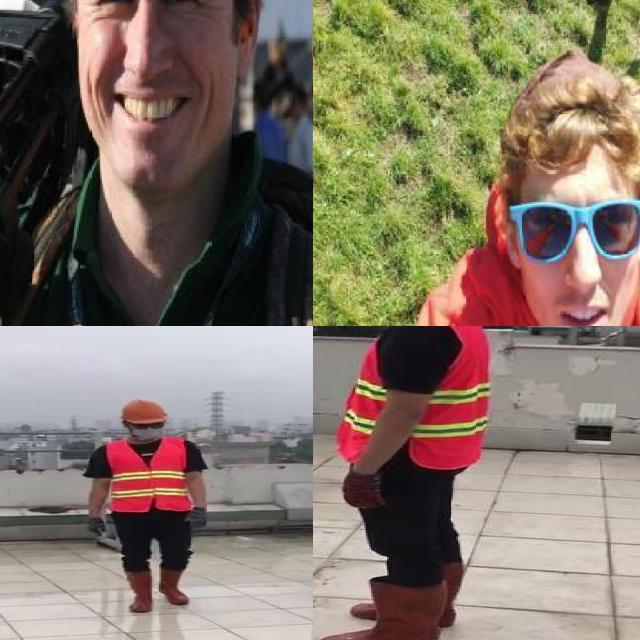No_Ear-Protection: (225, 0, 265, 86)
No_Glasses: (60, 0, 231, 27)
boots: (322, 580, 447, 640), (121, 566, 158, 613), (438, 561, 462, 627), (155, 566, 193, 606)
face_nomask: (81, 0, 224, 136), (522, 192, 639, 326)
glasses: (471, 190, 640, 283)
hand_glove: (343, 472, 385, 509)
head_helmet: (114, 398, 173, 427)
head_nohelmet: (496, 70, 640, 183)
person: (0, 0, 313, 326), (313, 326, 523, 640), (395, 60, 640, 326), (82, 392, 214, 620)
vest: (328, 326, 486, 470), (107, 436, 191, 514)
